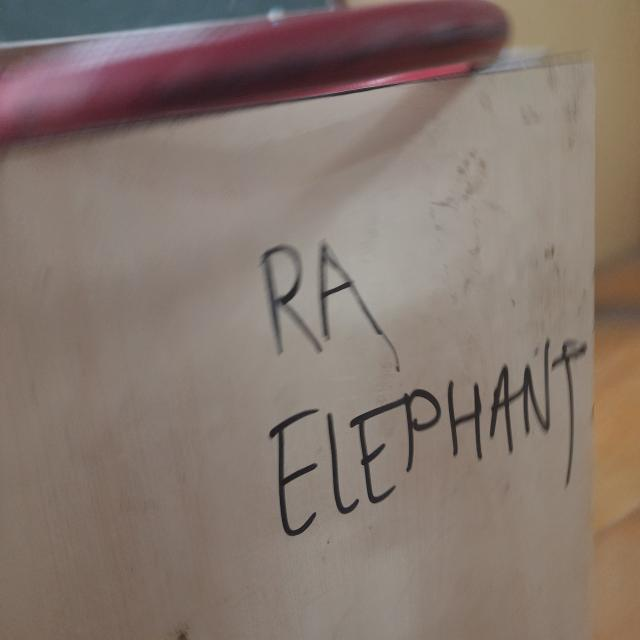daire: (17, 9, 515, 111)
